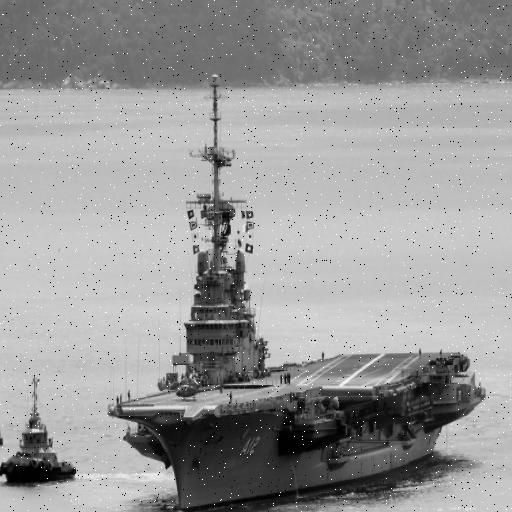Portanaves: (105, 69, 491, 512)
